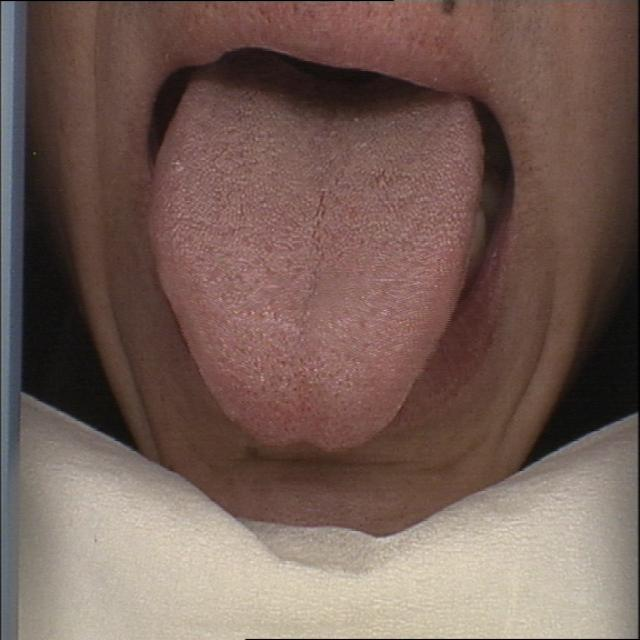tongue: (140, 76, 497, 462)
